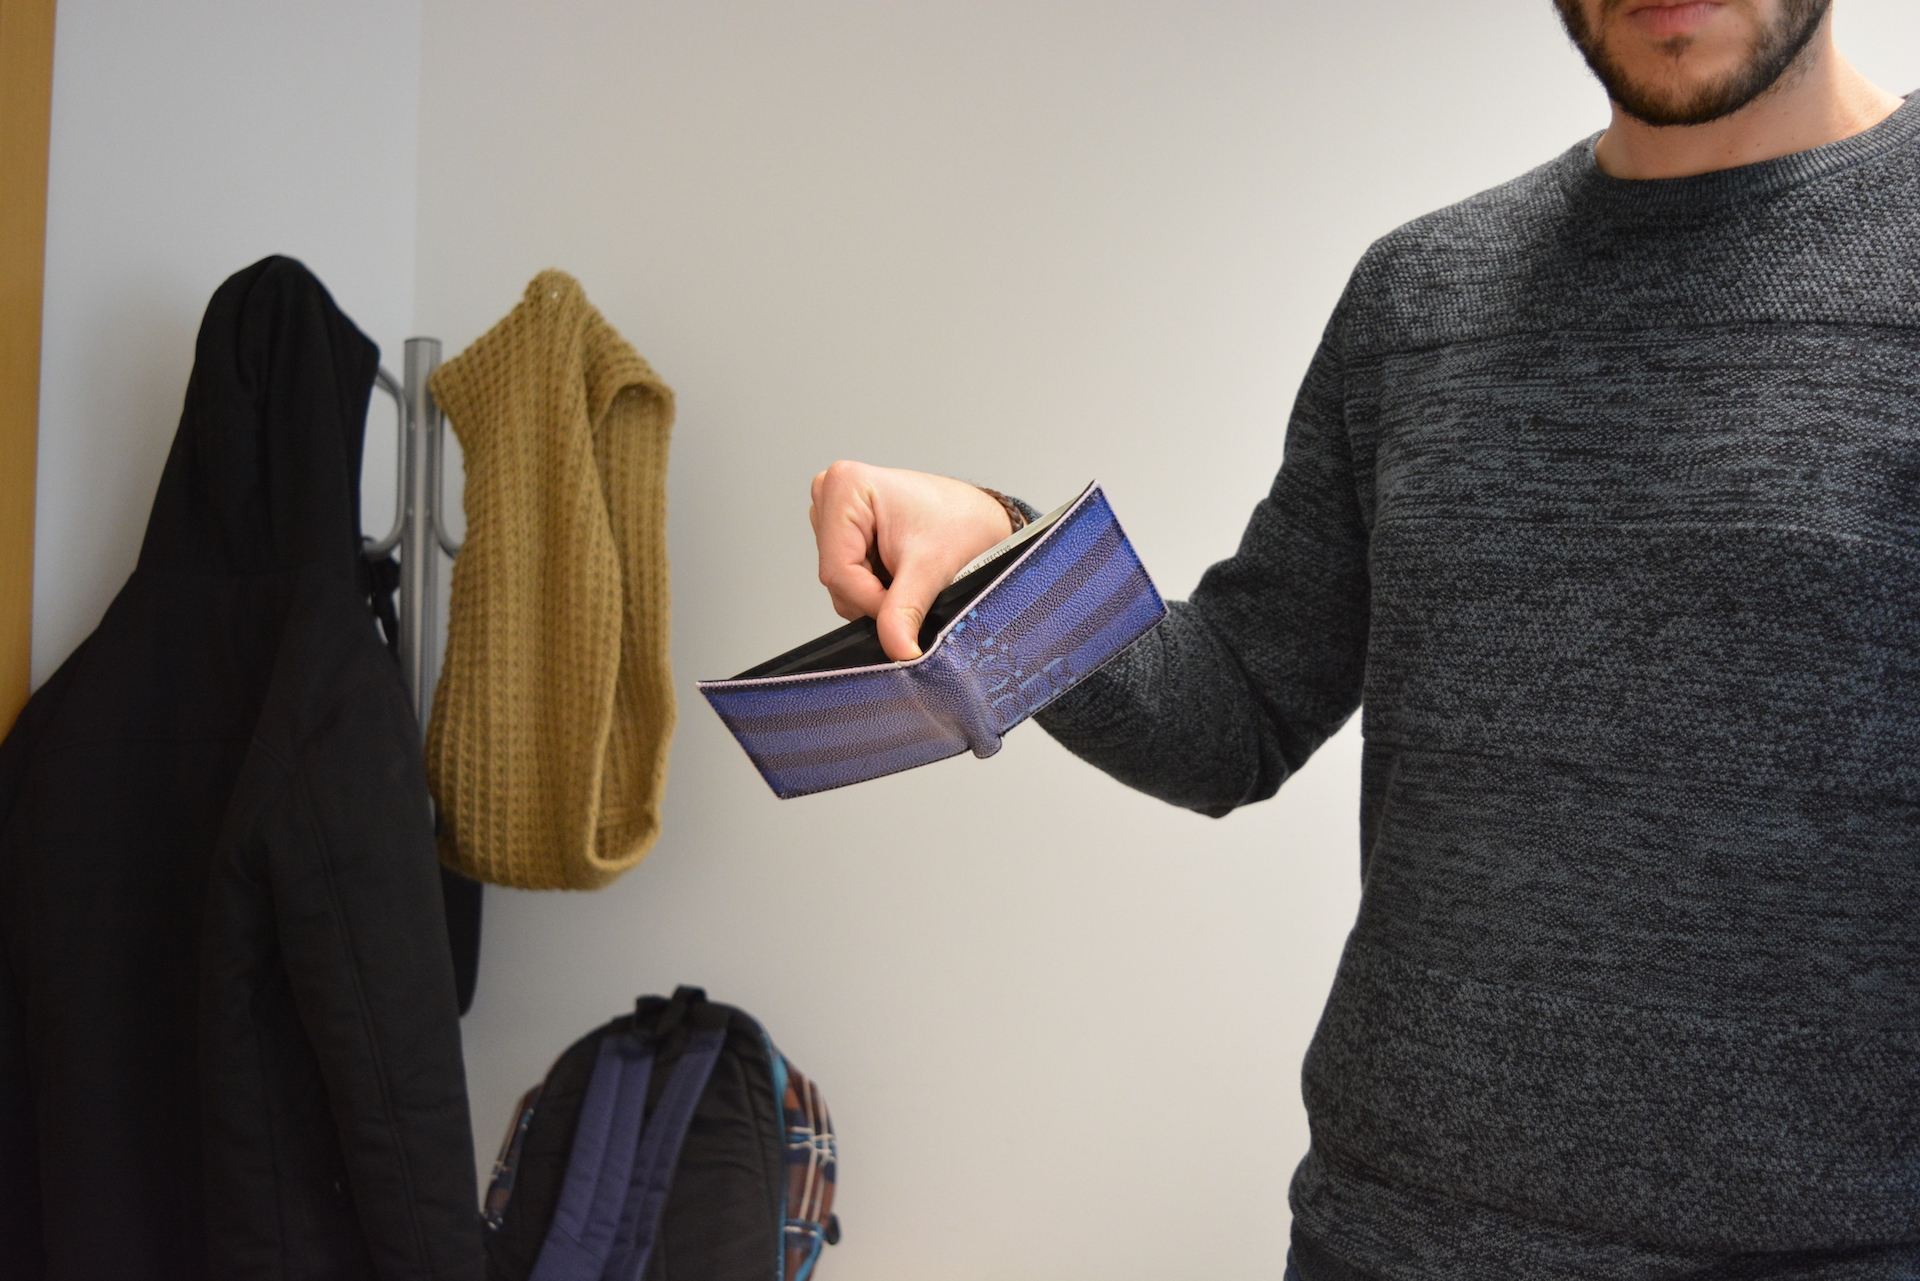monedero: (693, 478, 1174, 802)
